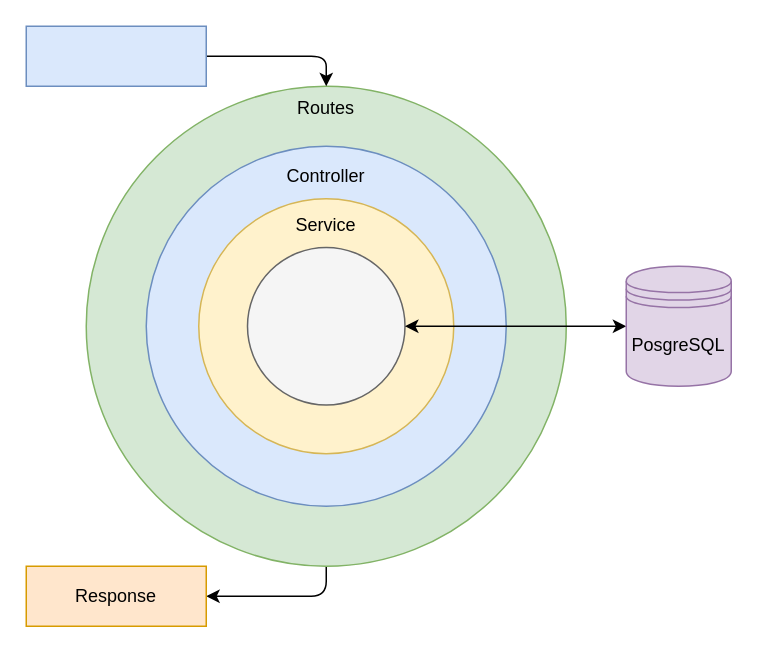
This 758x653 diagram has some shape labels left out. The centre of each missing label's shape, as x and y in pixels:
ORM: [325,325]
Request: [115,55]
